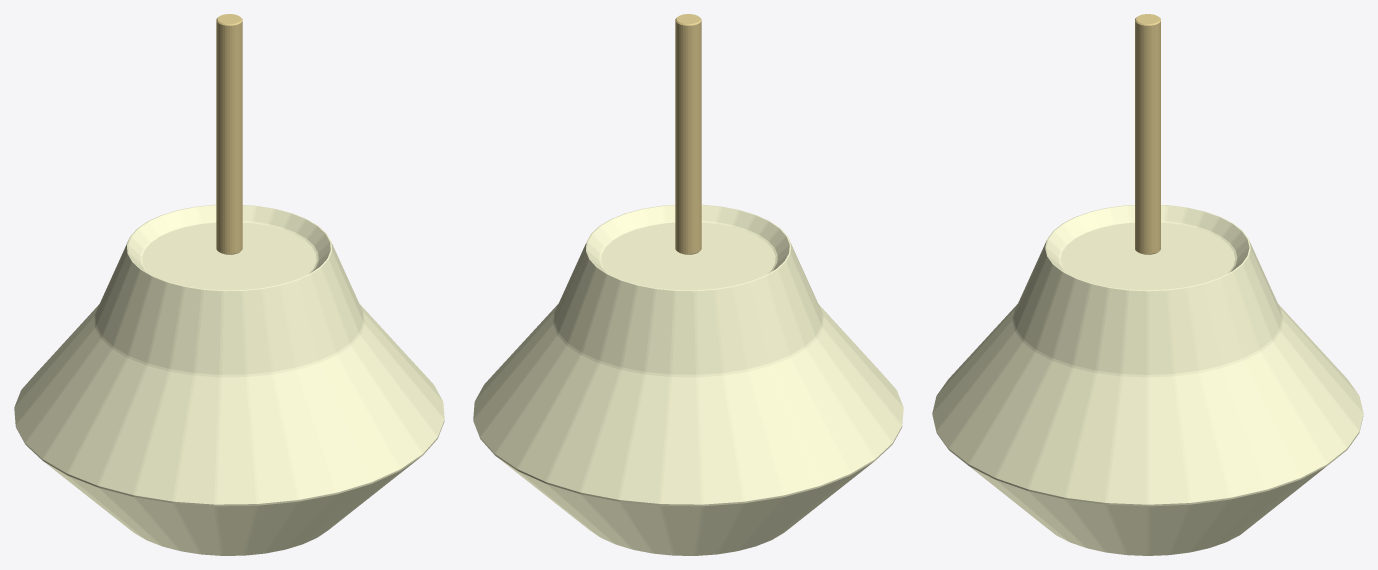
The model's file is CeilingLightV1.fbx.
3 views of the same model, side by side, from view 1: azimuth 30°, elevation 25°; view 2: azimuth 150°, elevation 25°; view 3: azimuth 270°, elevation 25° (orthographic).
Visible parts, largest first — view 1: Cylinder; view 2: Cylinder; view 3: Cylinder.
Part boxes in pixels (box(x1,y1,x2,y2)): Cylinder: box(14, 14, 444, 555); Cylinder: box(473, 14, 903, 555); Cylinder: box(932, 14, 1363, 555).
Bounding box in the file's own units: 622 × 622 × 782.
